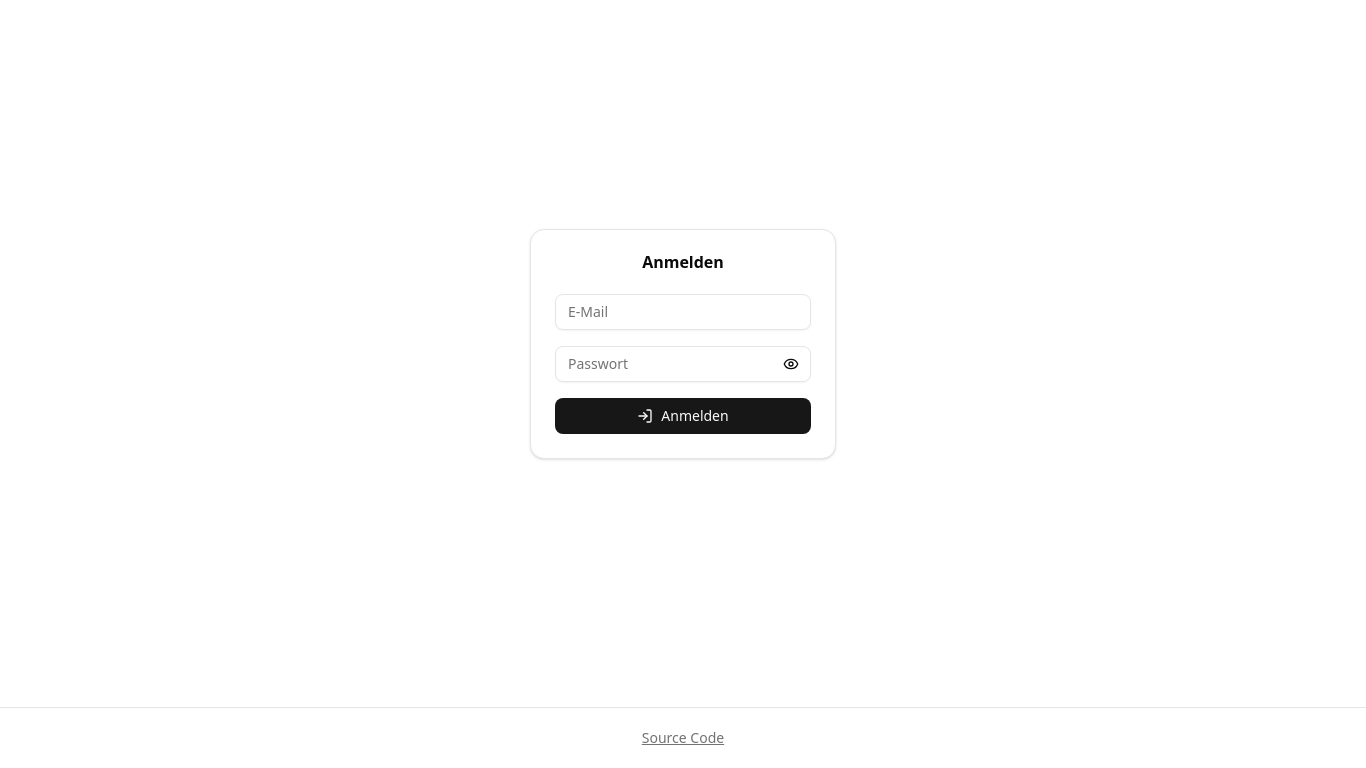
Login Tests › should show incorrect mail format message
In the field with test id "mail-input": point(683, 312) [555, 294, 811, 330], type "Invalid Mail"
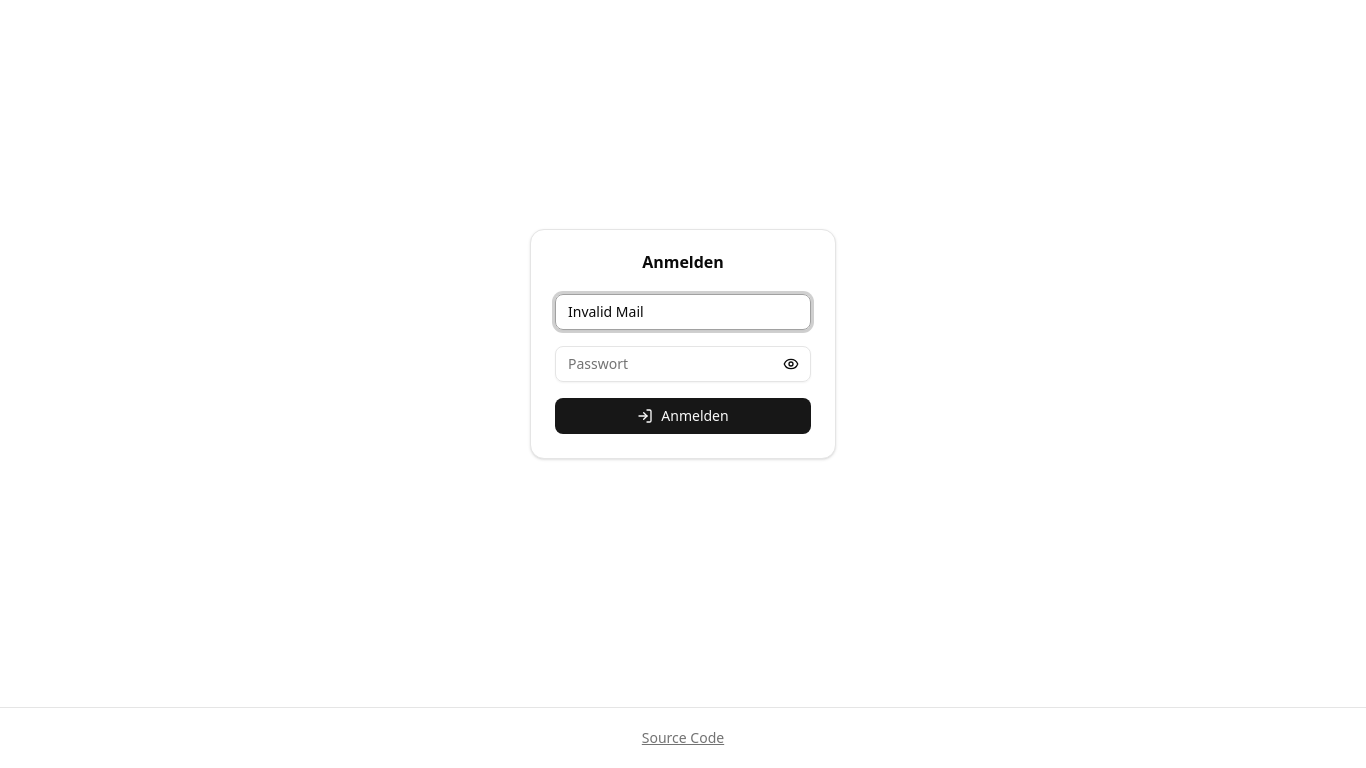
Click the button with test id "submit": point(683, 416) [555, 398, 811, 434]
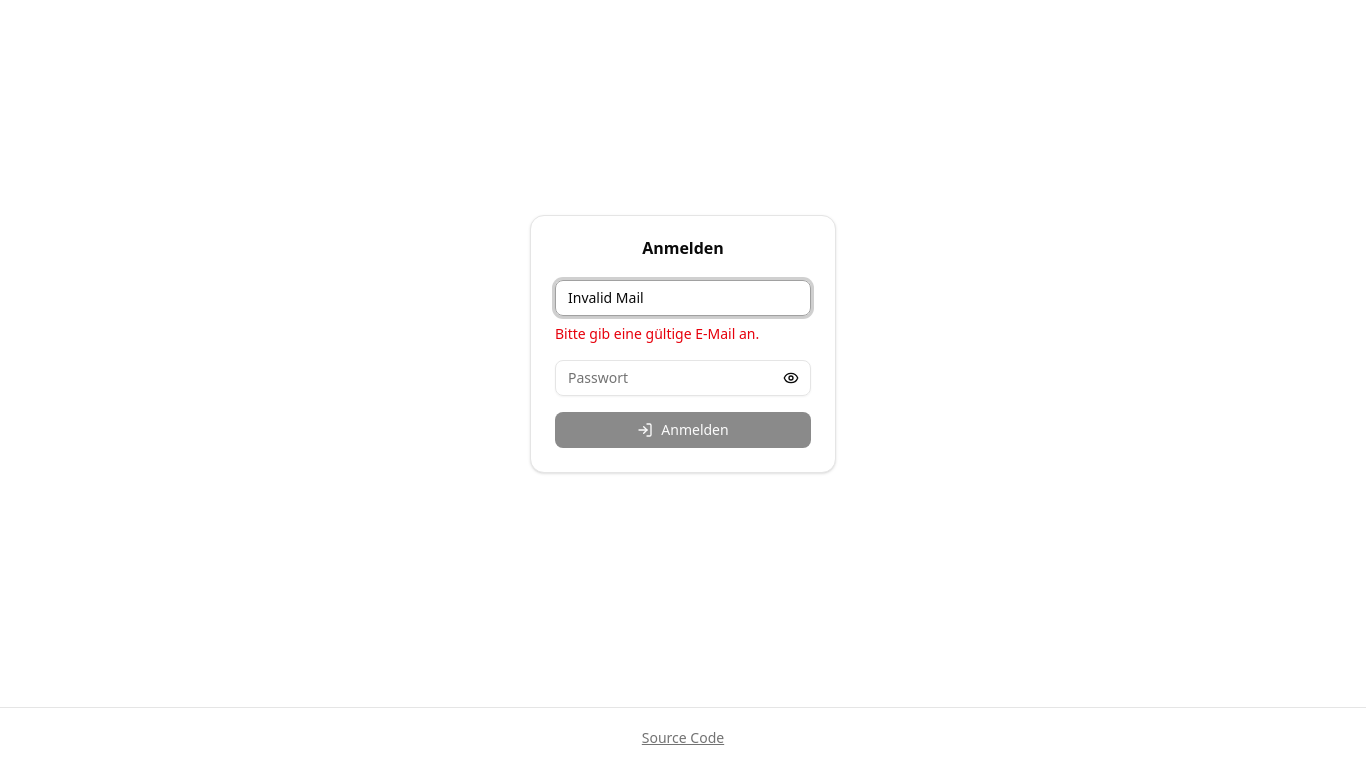
Expected: the text with test id "mail-message" reads "Bitte gib eine gültige E-Mail an.", [555, 324, 759, 343]
